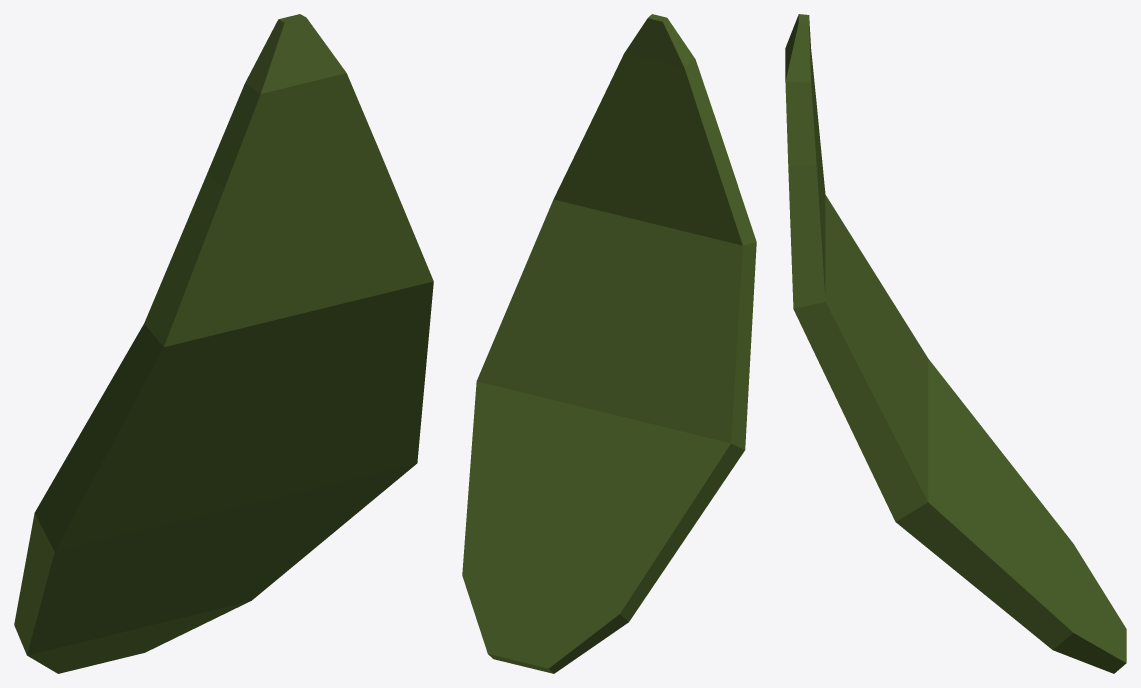
The model's file is leaf1.fbx.
3 views of the same model, side by side, from view 1: azimuth 30°, elevation 25°; view 2: azimuth 150°, elevation 25°; view 3: azimuth 270°, elevation 25° (orthographic). The views are drawn at different scales.
Visible parts, largest first — view 1: Leaves.003; view 2: Leaves.003; view 3: Leaves.003.
Part boxes in pixels (<box>): Leaves.003: <box>14,14,433,673</box>; Leaves.003: <box>462,14,756,673</box>; Leaves.003: <box>785,14,1126,673</box>.
Size of the model in its own units: 61.27 by 127 by 61.38.
